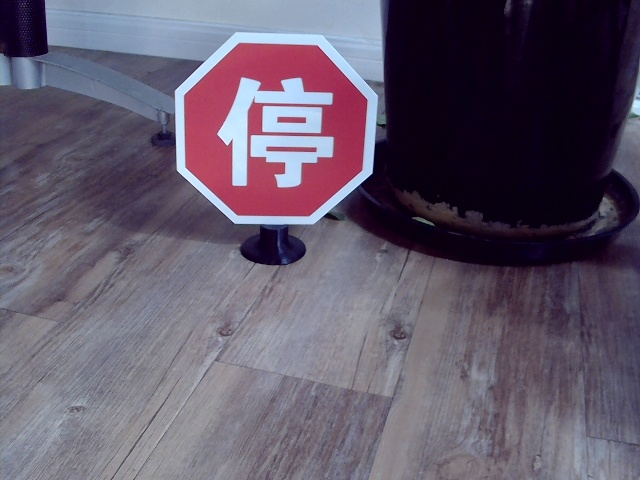stop: (214, 75, 332, 187)
